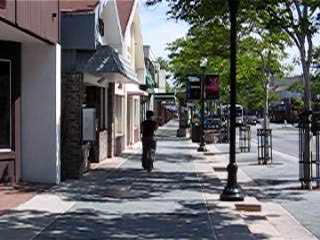person: (140, 111, 159, 172), (139, 111, 158, 172), (141, 111, 160, 172), (140, 110, 159, 171), (140, 112, 159, 173)
target_negative: (173, 38, 310, 238), (269, 11, 307, 154), (93, 153, 214, 173), (248, 150, 305, 172), (277, 89, 278, 195), (273, 62, 274, 114)
